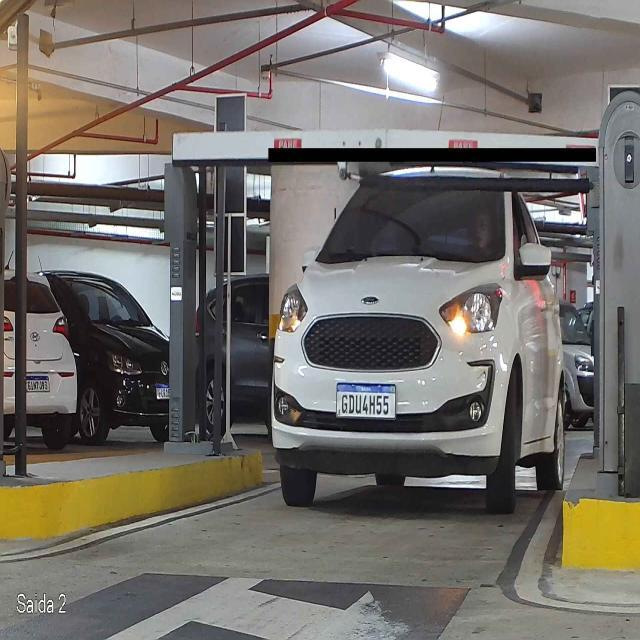mercosul_plate: (335, 381, 397, 420)
